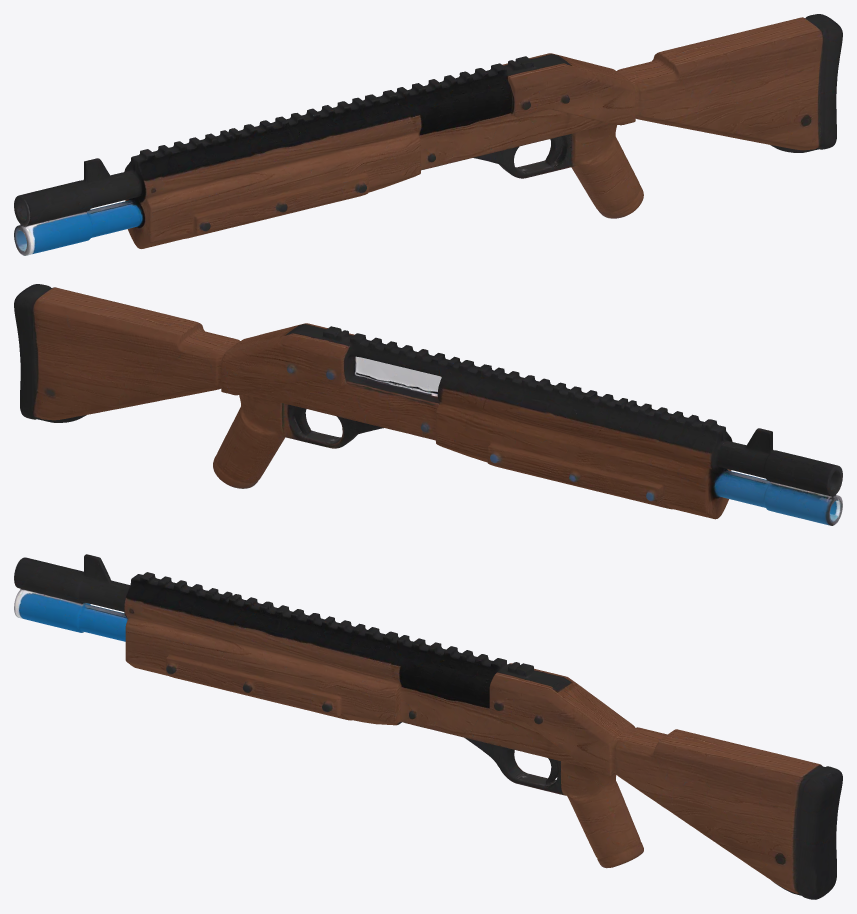
Rendered from shotgun.glb.
3 views of the same model, one above another, from view 1: azimuth 30°, elevation 25°; view 2: azimuth 150°, elevation 25°; view 3: azimuth 330°, elevation 25° (orthographic).
Bounding box in the file's own units: 1.9 × 0.4044 × 0.1512.
Materials: 1 (1 with a texture image).
